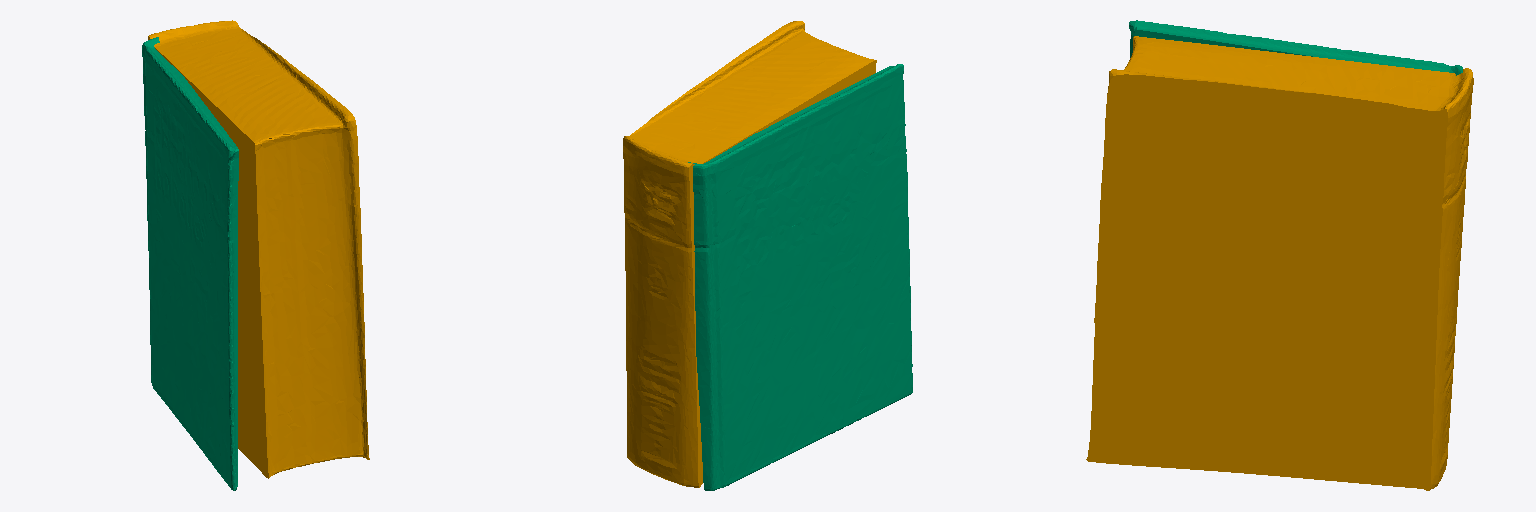
robot.urdf — book:
<?xml version="1.0"?>
<robot name="book">
  <link name ="rb0">
    <visual>
      <origin xyz='0.126804 -0.046692 -0.124746' rpy='0.216949 -1.472020 -1.942373'/>
      <geometry>
        <mesh filename="package://articulated_objects_db/data/objects/book/meshes/book_bottom.obj"  scale="1 1 1" />
      </geometry>
    </visual>
  </link>
  <joint name="j_0_1" type="revolute">
    <parent link="rb0"/>
    <child link="rb1"/>
    <origin xyz="-0.0177468744444 0.0828859326016 -0.0231983870346" rpy="0 0 0 "/>
    <axis xyz="-0.0136715161651 0.0358929975763 0.999262118951"/>
    <limit effort="30" velocity="1.0" lower="-3.1416" upper="3.1416"/>
  </joint>
  <joint name="j_0_fixed" type="fixed">
    <parent link="rb1"/>
    <child link="rb1_marker"/>
      <origin xyz="-0.0478552688509 -0.199694573384 0.00642943110735" rpy="-1.54919398998 -0.0117697714579 2.44482313398"/>
    <limit effort="30" velocity="1.0" lower="-3.1416" upper="3.1416"/>
  </joint>
  <link name ="rb1">
  </link>
  <link name ="rb1_marker">
    <visual>
      <origin xyz='-0.033606 0.111992 -0.131134' rpy='-2.689532 -0.104439 -1.616204'/>
      <geometry>
        <mesh filename="package://articulated_objects_db/data/objects/book/meshes/book_top.obj"  scale="1 1 1" />
      </geometry>
    </visual>
  </link>
</robot>

--- Render facts (derived) ---
3 views of the same robot in one strip: view 1: azimuth 30°, elevation 25°; view 2: azimuth 150°, elevation 25°; view 3: azimuth 270°, elevation 25° (orthographic).
Model book with 3 links and 2 joints (1 revolute, 1 fixed), rooted at rb0, posed every joint at zero.
Links seen in each view (by area): view 1: rb0, rb1_marker; view 2: rb1_marker, rb0; view 3: rb0, rb1_marker.
Boxes of the visible links, bbox=[...] form: rb0: bbox=[148, 20, 369, 478]; rb1_marker: bbox=[142, 37, 238, 490]; rb1_marker: bbox=[688, 64, 912, 490]; rb0: bbox=[623, 21, 876, 487]; rb0: bbox=[1086, 36, 1473, 490]; rb1_marker: bbox=[1129, 20, 1462, 75].
Bounding box of the posed robot: 0.117 × 0.2262 × 0.2638 m (x, y, z).
2 mesh visuals loaded from 2 distinct referenced files (2 OBJ).